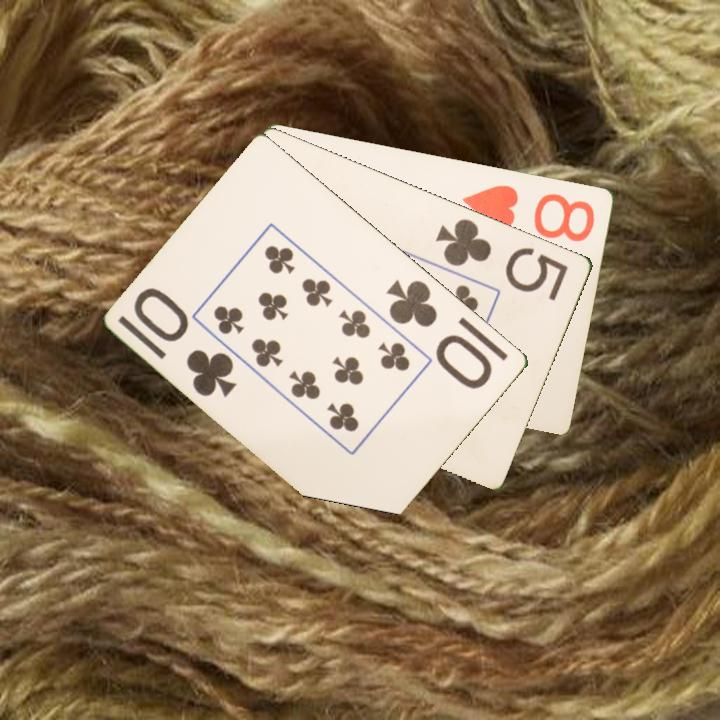10c: (383, 276, 496, 392), (130, 284, 241, 401)
5c: (432, 214, 572, 304)
8h: (459, 181, 599, 245)
